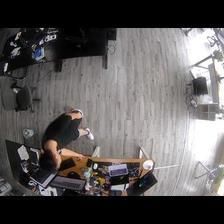normal: (39, 109, 94, 172)
